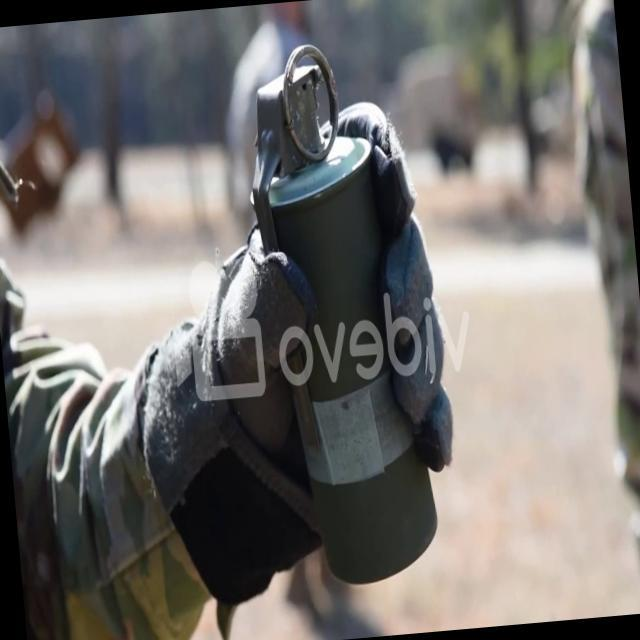grenade: (240, 27, 450, 594)
